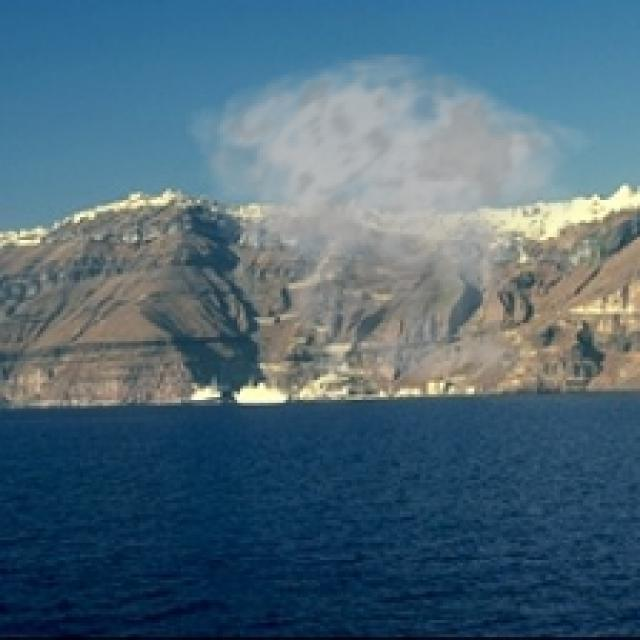Smoke: (185, 52, 600, 414)
